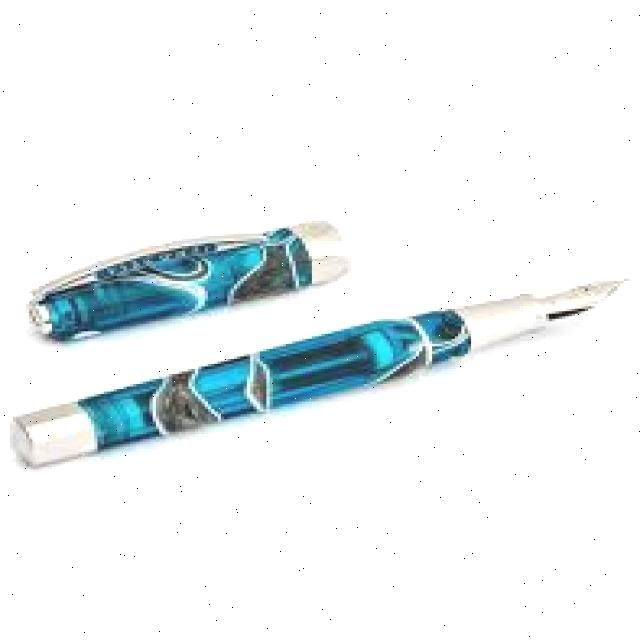pen: (7, 274, 630, 470), (23, 216, 351, 341)
